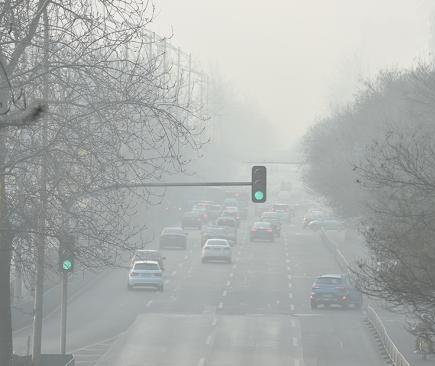car: (308, 272, 362, 308), (126, 258, 163, 290), (130, 250, 167, 278), (201, 238, 233, 264), (158, 226, 188, 251), (307, 214, 344, 232), (214, 216, 238, 243), (199, 227, 229, 248), (249, 221, 274, 242), (180, 209, 203, 231), (259, 210, 280, 231)
